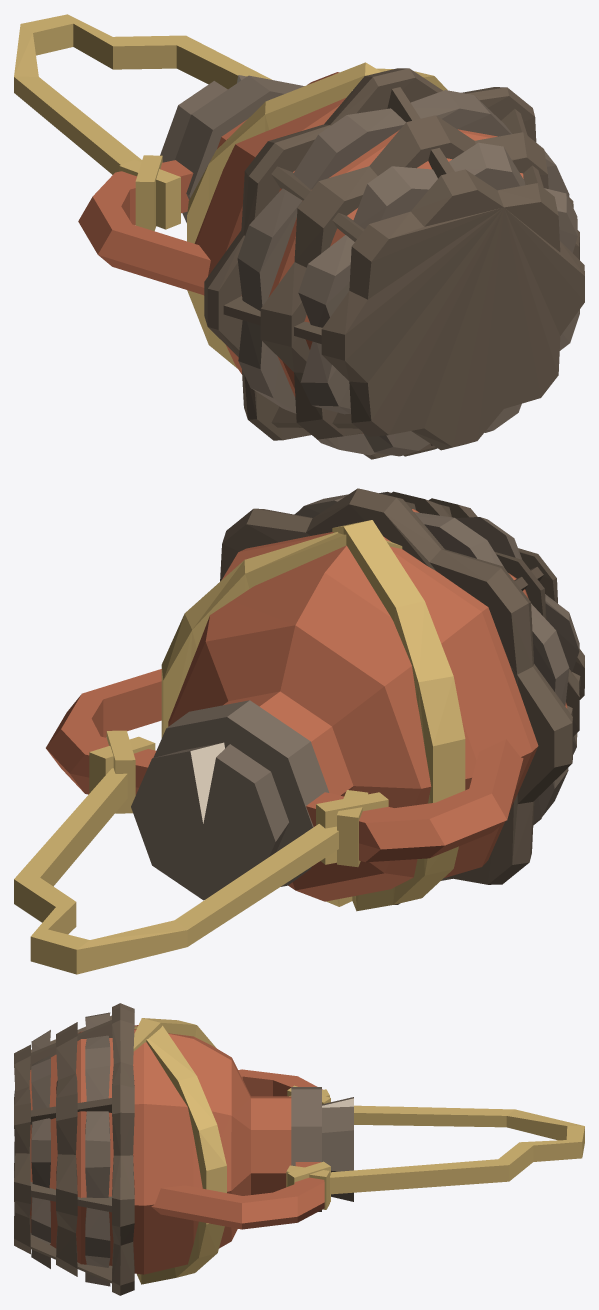
The model's file is bottle.glb.
3 renders of one model, top to bottom at view 1: azimuth 30°, elevation 25°; view 2: azimuth 150°, elevation 25°; view 3: azimuth 270°, elevation 25°, orthographic. The views are drawn at different scales.
Parts seen in each view (by area): view 1: bottle; view 2: bottle; view 3: bottle.
Boxes of the visible parts, bbox=[...] form: bottle: bbox=[14, 14, 584, 459]; bottle: bbox=[14, 488, 584, 974]; bottle: bbox=[14, 1003, 584, 1295].
Bounding box in the file's own units: 0.1669 × 0.1473 × 0.28.
Materials: 1 (1 with a texture image).
